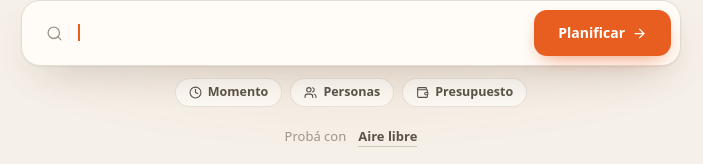
PlanComposer › uses a suggested idea to fill and focus the composer without submitting
Click the button "Aire libre" at (388, 137), box [358,127,417,147]
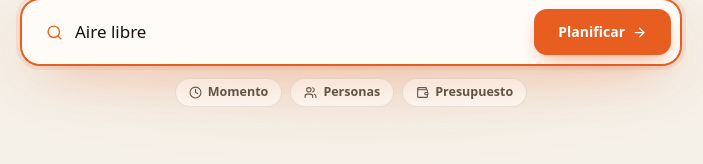
Expected: the text box named "contale a smartplan qué querés hacer" holds "Aire libre", [75,19,522,45]
